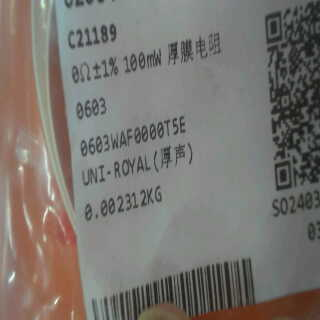0R: (68, 53, 119, 125)
